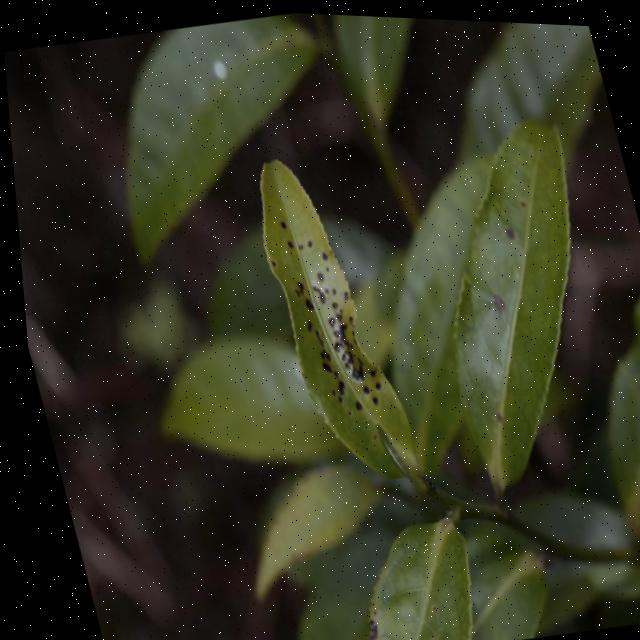Tea red scab: (258, 211, 388, 413)
